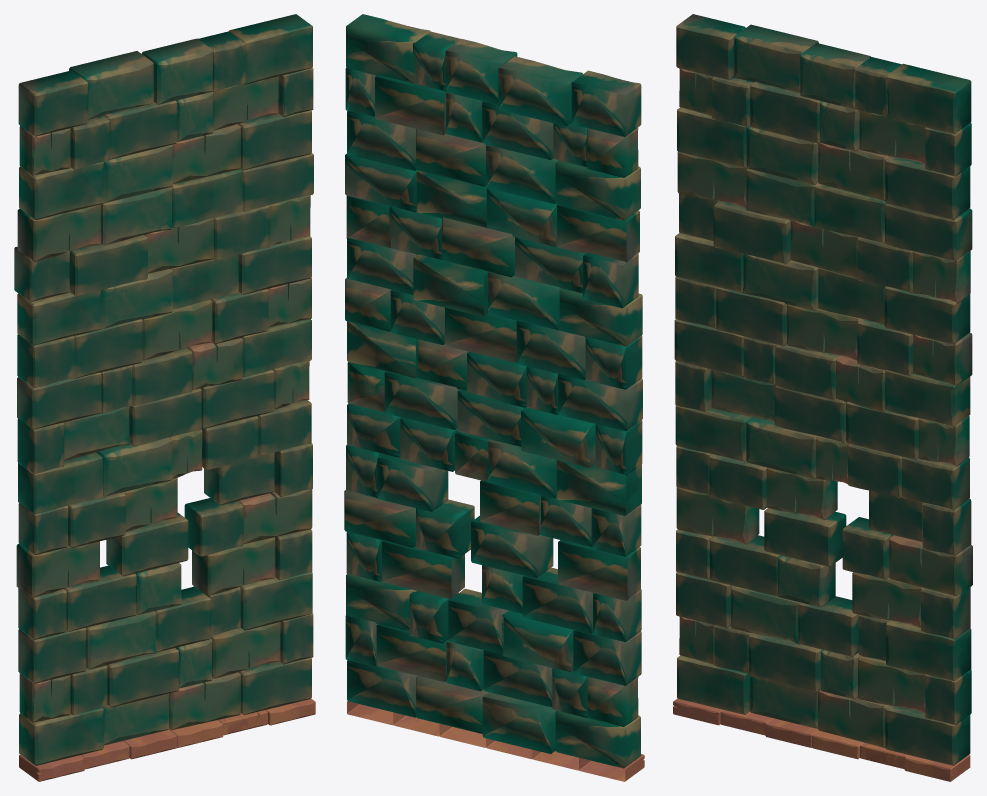
Rendered from FBX_Wall_Destructible_01.fbx.
The picture shows the model from 3 angles, left to right: view 1: azimuth 30°, elevation 25°; view 2: azimuth 150°, elevation 25°; view 3: azimuth 330°, elevation 25°; orthographic projection.
Visible parts, largest first — view 1: Plane.005, Plane.107, Plane.104, Plane.103, Plane.093, Plane.069, Plane.057, Plane.083, Plane.085, Plane.017, Plane.072, Plane.067 (+66 smaller); view 2: Plane.104, Plane.107, Plane.005, Plane.103, Plane.093, Plane.067, Plane.057, Plane.072, Plane.069, Plane.081, Plane.092, Plane.017 (+66 smaller); view 3: Plane.005, Plane.107, Plane.096, Plane.104, Plane.061, Plane.056, Plane.017, Plane.089, Plane.080, Plane.073, Plane.064, Plane.085 (+66 smaller).
Boxes of the visible parts, x1,y1,x2,y2 form: Plane.005: (19,698,315,781); Plane.107: (228,14,312,84); Plane.104: (69,51,153,119); Plane.103: (18,70,87,136); Plane.093: (19,162,103,219); Plane.069: (18,452,102,514); Plane.057: (19,707,103,765); Plane.083: (17,290,101,345); Plane.085: (69,234,147,296); Plane.017: (106,513,188,576); Plane.072: (17,372,101,429); Plane.067: (16,541,99,597); Plane.104: (498,56,582,126); Plane.107: (346,14,430,83); Plane.005: (347,701,644,781); Plane.103: (571,70,641,136); Plane.093: (555,160,640,220); Plane.067: (558,539,640,600); Plane.057: (555,710,640,768); Plane.072: (558,374,642,430); Plane.069: (556,460,641,515); Plane.081: (413,254,487,316); Plane.092: (557,205,639,262); Plane.017: (471,516,553,578); Plane.005: (673,698,970,781); Plane.107: (886,63,971,134); Plane.096: (885,156,970,219); Plane.104: (734,24,818,92); Plane.061: (886,620,971,680); Plane.056: (885,705,970,765); Plane.017: (764,508,846,566); Plane.089: (885,203,972,261); Plane.080: (884,286,970,344); Plane.073: (885,370,970,426); Plane.064: (889,535,972,596); Plane.085: (713,201,790,264).
Size of the model in its own units: 5.18 by 12.03 by 0.7444.
